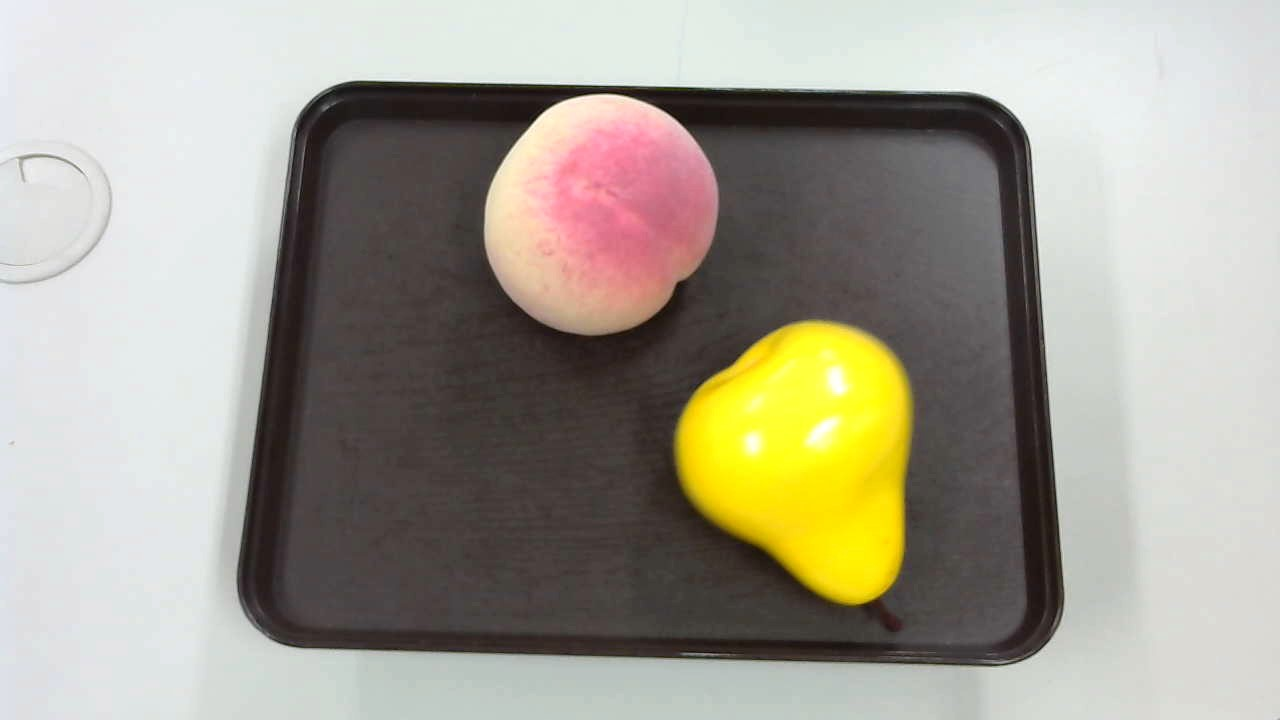peach: (473, 91, 724, 344)
yellow pear: (672, 320, 923, 639)
